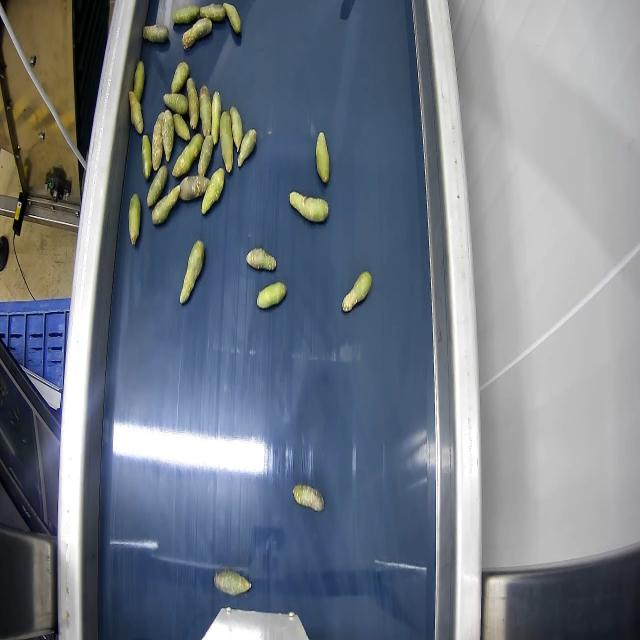Baby Potato: (180, 239, 204, 304), (289, 190, 329, 223), (172, 134, 201, 178), (342, 269, 372, 311), (201, 166, 225, 214), (151, 185, 179, 225), (214, 568, 251, 596), (146, 163, 168, 209), (182, 17, 212, 49), (292, 483, 324, 512), (256, 280, 287, 309), (237, 128, 257, 167), (246, 246, 276, 271), (315, 131, 329, 183), (178, 176, 211, 198), (220, 112, 232, 172), (198, 133, 214, 178), (152, 112, 164, 171), (161, 109, 174, 163), (128, 191, 140, 245), (199, 84, 211, 138), (229, 105, 243, 150), (129, 90, 143, 135), (187, 77, 199, 129), (222, 2, 241, 34), (171, 61, 189, 94), (172, 4, 200, 24), (163, 92, 188, 114), (211, 91, 221, 145), (199, 3, 227, 22), (141, 134, 152, 180), (133, 60, 145, 102), (142, 24, 168, 43), (172, 110, 188, 140)
